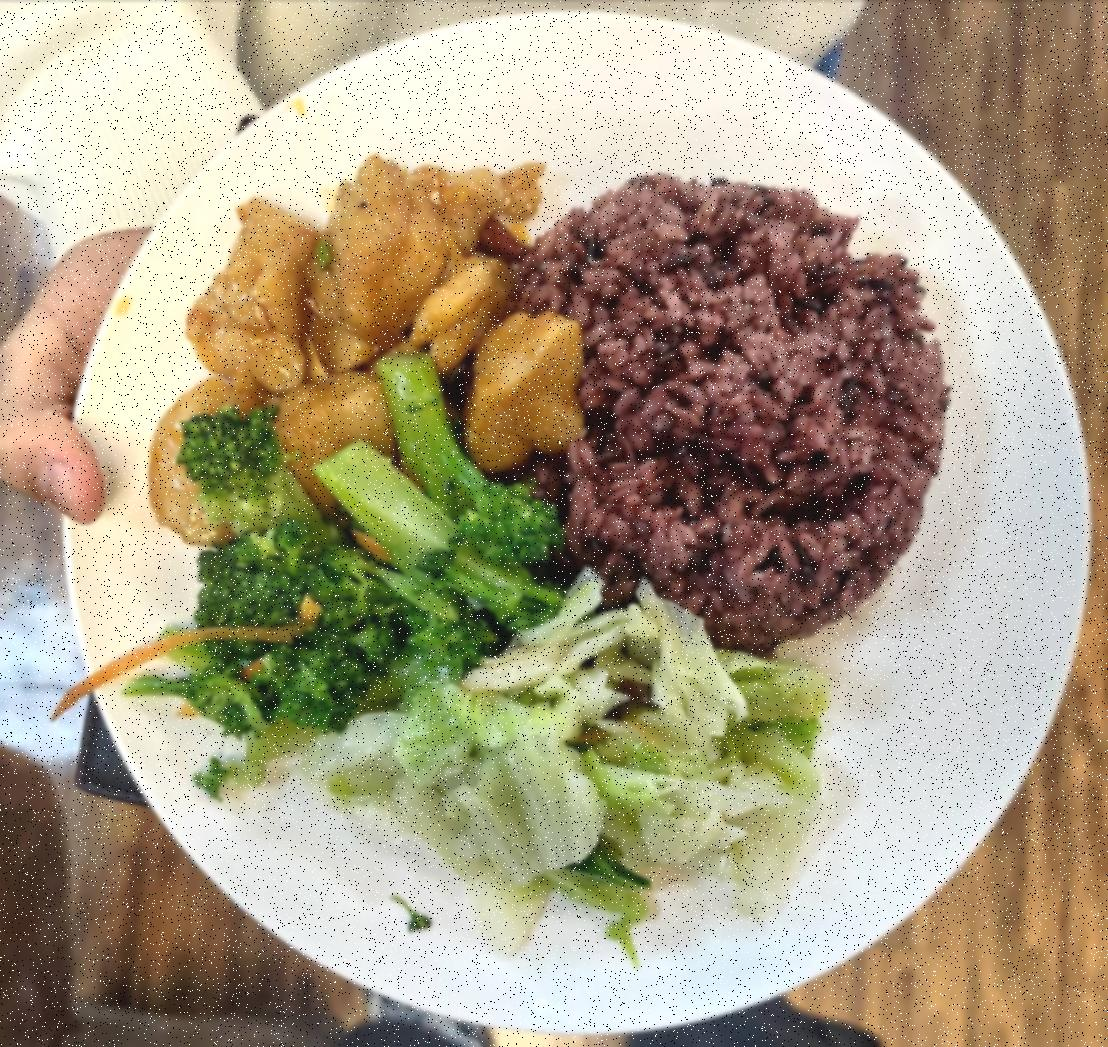big fried chicken leg: (0, 5, 1093, 1034)
braised fish: (520, 171, 946, 634)
braised fish fillet: (155, 350, 556, 728), (403, 590, 830, 926)
braised pork: (152, 151, 570, 540)
